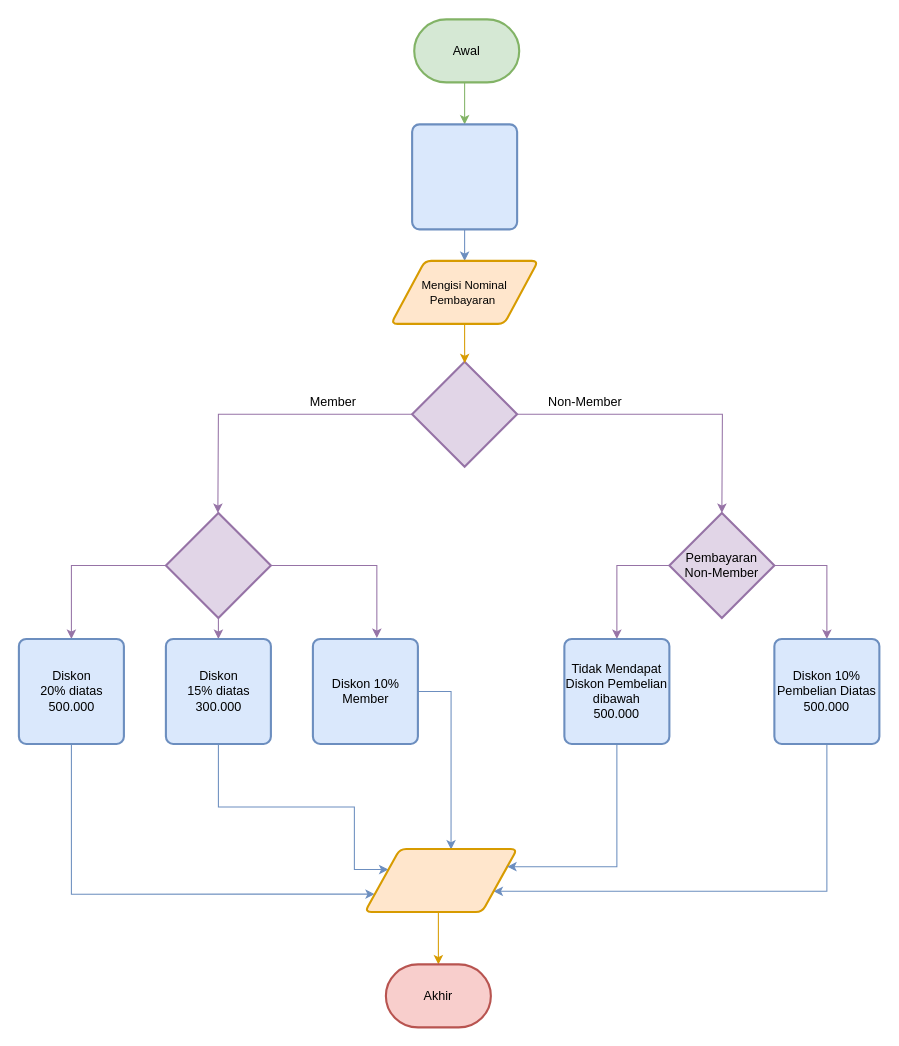
Image size: 899x1046. Some labels were removed from this diagram. The shapes that lost their labels are listed below. From the top down, each one's box as (x1, y1, x2, y2) in pixels, then its label:
(411, 123, 518, 230): Membuka Halaman Website Pembelian Belanja
(411, 360, 518, 467): Status
(164, 511, 271, 618): Pembayaran Member
(363, 847, 518, 912): Total Pembayaran
